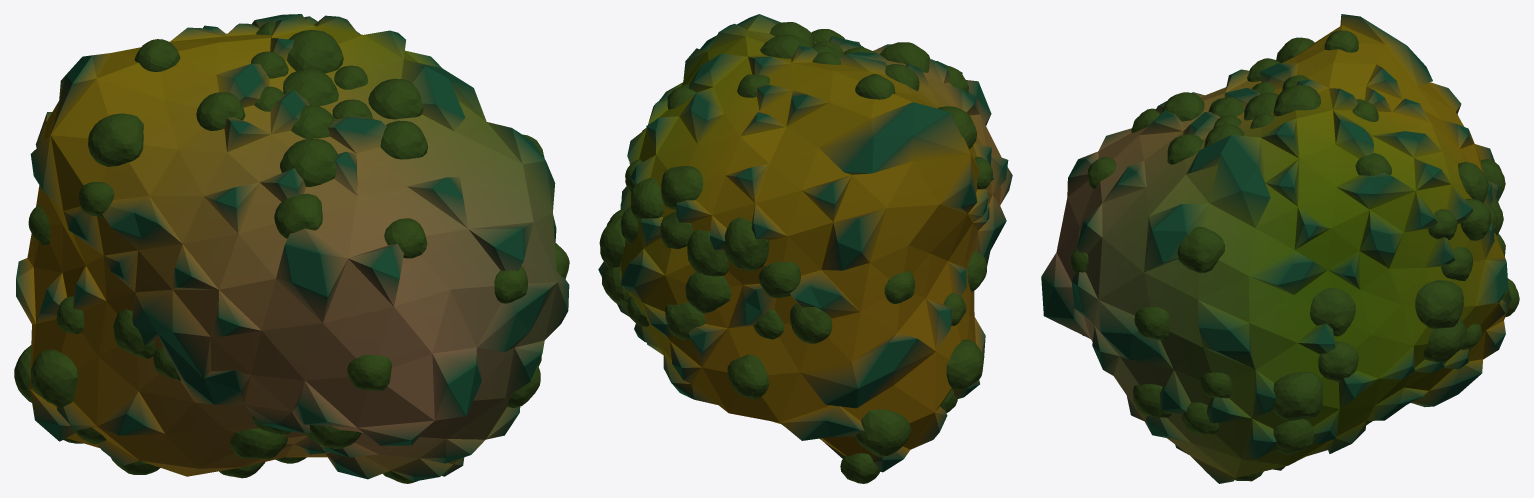
File: SkyFruit.obj
3 views of the same model, side by side, from view 1: azimuth 30°, elevation 25°; view 2: azimuth 150°, elevation 25°; view 3: azimuth 270°, elevation 25° (orthographic). The views are drawn at different scales.
Visible parts, largest first — view 1: object 1, RandomPrimFaces; view 2: object 1, RandomPrimFaces; view 3: object 1, RandomPrimFaces.
Part boxes in pixels (x1,y1,x2,y2): object 1: (14, 14, 569, 483); RandomPrimFaces: (30, 14, 546, 481); object 1: (598, 14, 1012, 483); RandomPrimFaces: (599, 14, 1008, 471); object 1: (1041, 14, 1519, 483); RandomPrimFaces: (1041, 47, 1511, 457).
Bounding box in the file's own units: 1.17 × 1.07 × 1.25.
